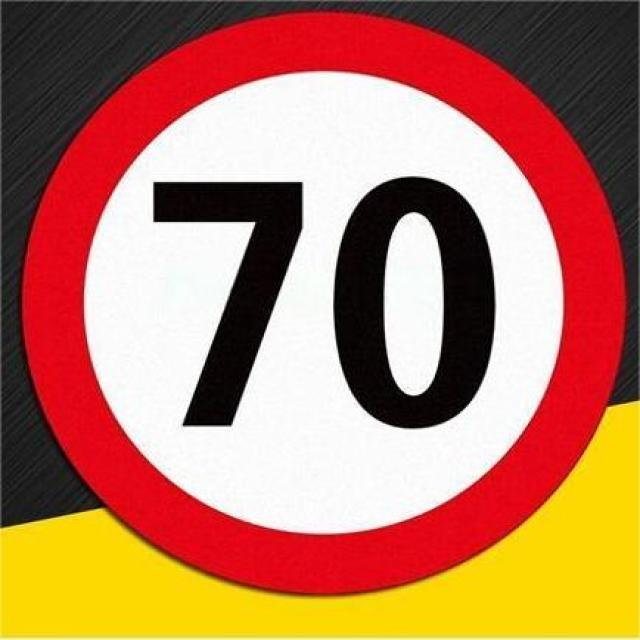speed limit 70: (19, 5, 630, 603)
